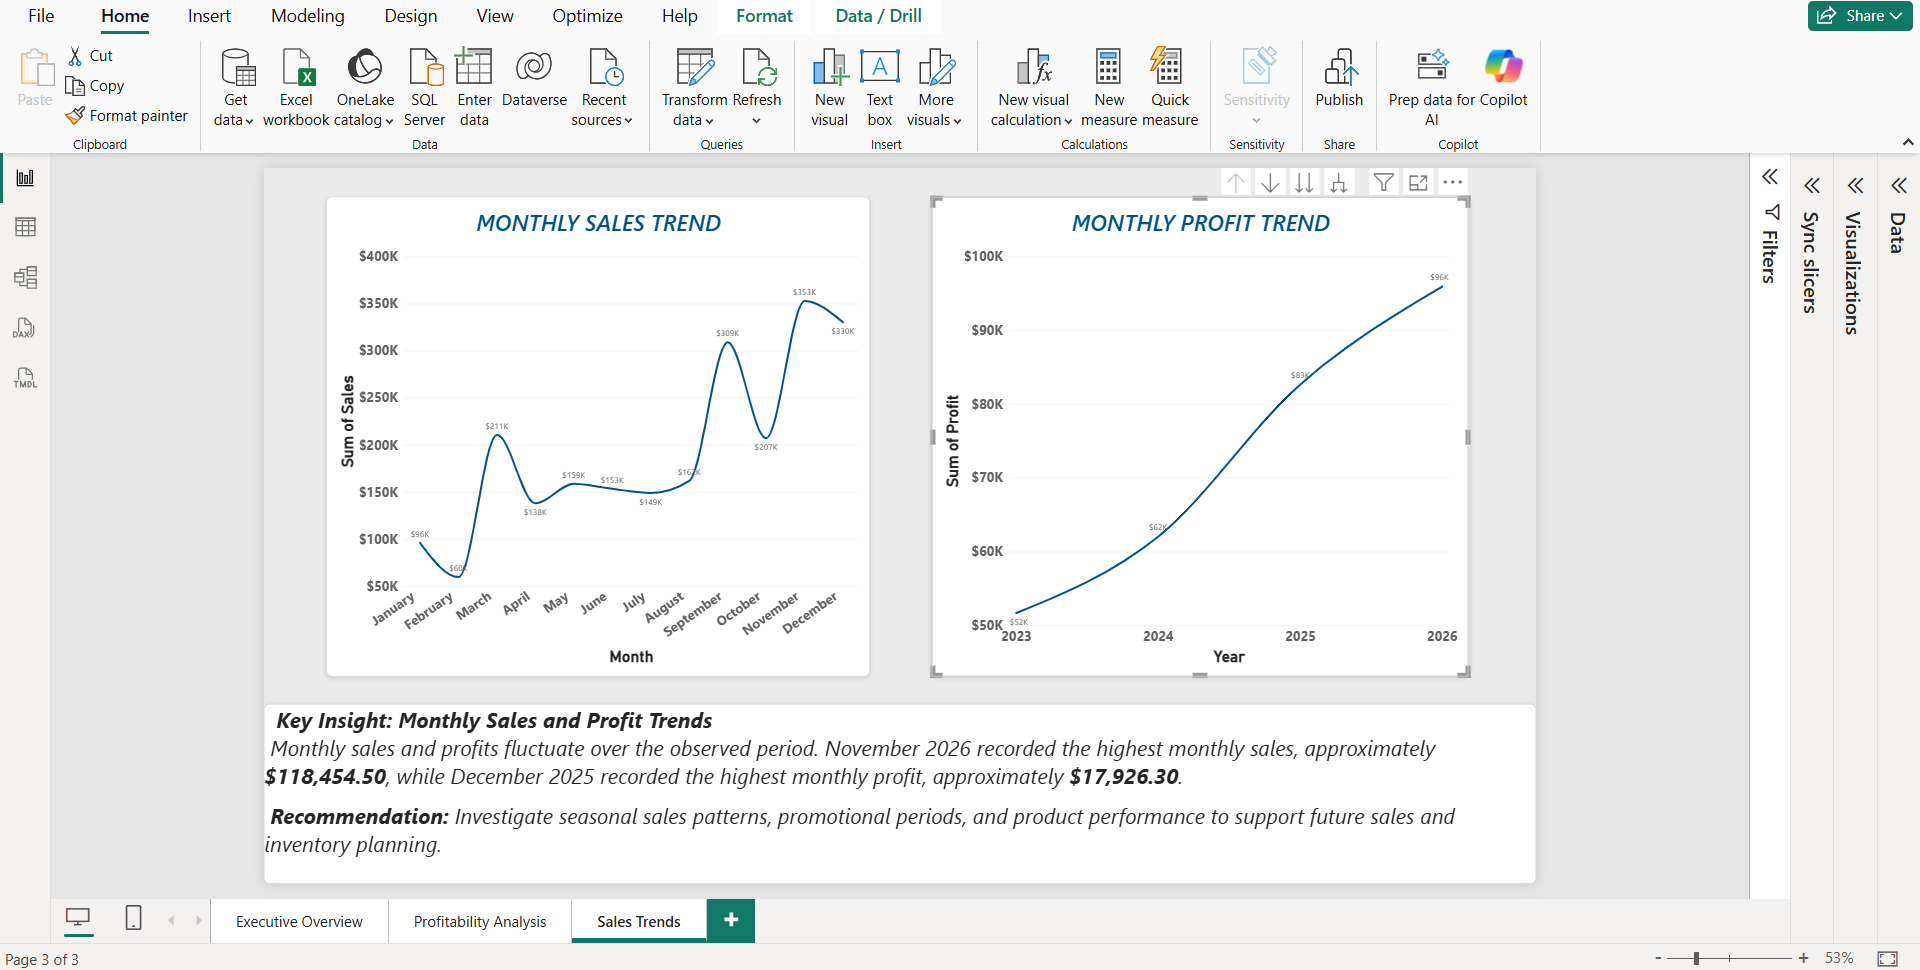

What the dashboard file says about the page in this screenshot:
{"tool":"powerbi","page":{"name":"Sales Trends","canvas":[1920,1080],"ordinal":2},"visuals":[{"type":"lineChart","title":"MONTHLY SALES TREND","fields":{"Category":["cleaned_superstore.Order Date.Variation.Date Hierarchy.Year","cleaned_superstore.Order Date.Variation.Date Hierarchy.Month"],"Y":["Sum(cleaned_superstore.Sales)"]},"box":[94,44,820,724],"z":0},{"type":"lineChart","title":"MONTHLY PROFIT TREND","fields":{"Category":["cleaned_superstore.Order Date.Variation.Date Hierarchy.Year","cleaned_superstore.Order Date.Variation.Date Hierarchy.Month"],"Y":["Sum(cleaned_superstore.Profit)"]},"box":[980,44,812,724],"z":1},{"type":"textbox","box":[0,810,1920,270],"z":2}]}

Visuals, with their boxes on the page's 1920x1080 design canvas (x1, y1, x2, y2). These are canvas units, not pixel positions in the 1920x970 screenshot, which may show the page scaled, cropped or inside an application window:
"MONTHLY SALES TREND" lineChart: [94, 44, 914, 768]
"MONTHLY PROFIT TREND" lineChart: [980, 44, 1792, 768]
textbox: [0, 810, 1920, 1080]
